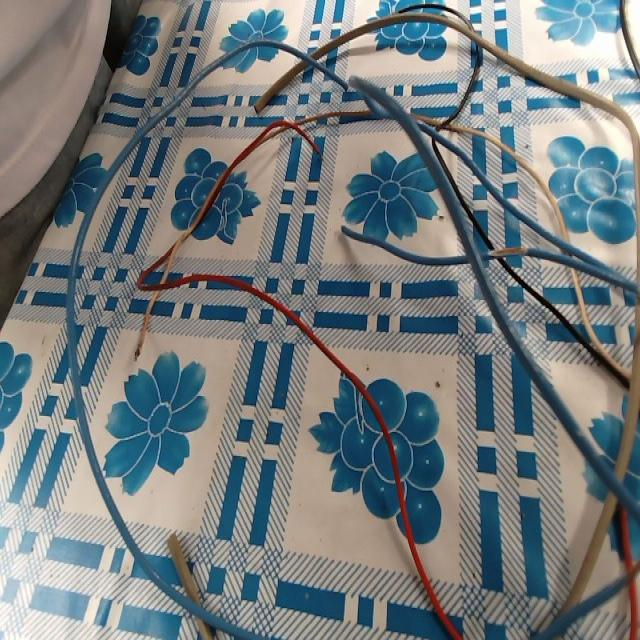-: (486, 242, 528, 262), (249, 96, 262, 117), (130, 343, 145, 360)
